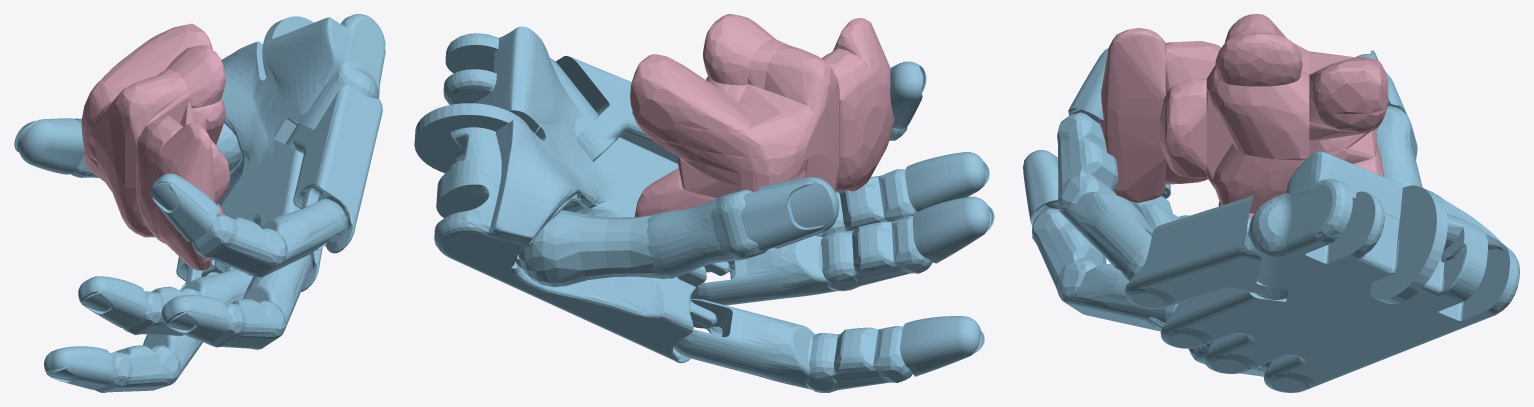
3 views of the same model, side by side, from view 1: azimuth 30°, elevation 25°; view 2: azimuth 150°, elevation 25°; view 3: azimuth 270°, elevation 25° (orthographic). The views are drawn at different scales.
Visible parts, largest first — view 1: hand_isaac_q, world; view 2: hand_isaac_q, world; view 3: hand_isaac_q, world.
Part boxes in pixels (x1,y1,x2,y2): hand_isaac_q: (14, 14, 385, 392); world: (81, 23, 229, 270); hand_isaac_q: (414, 26, 994, 392); world: (630, 14, 894, 216); hand_isaac_q: (1023, 48, 1519, 392); world: (1099, 14, 1388, 219).
Bounding box in the file's own units: 0.1772 × 0.1341 × 0.1606.
